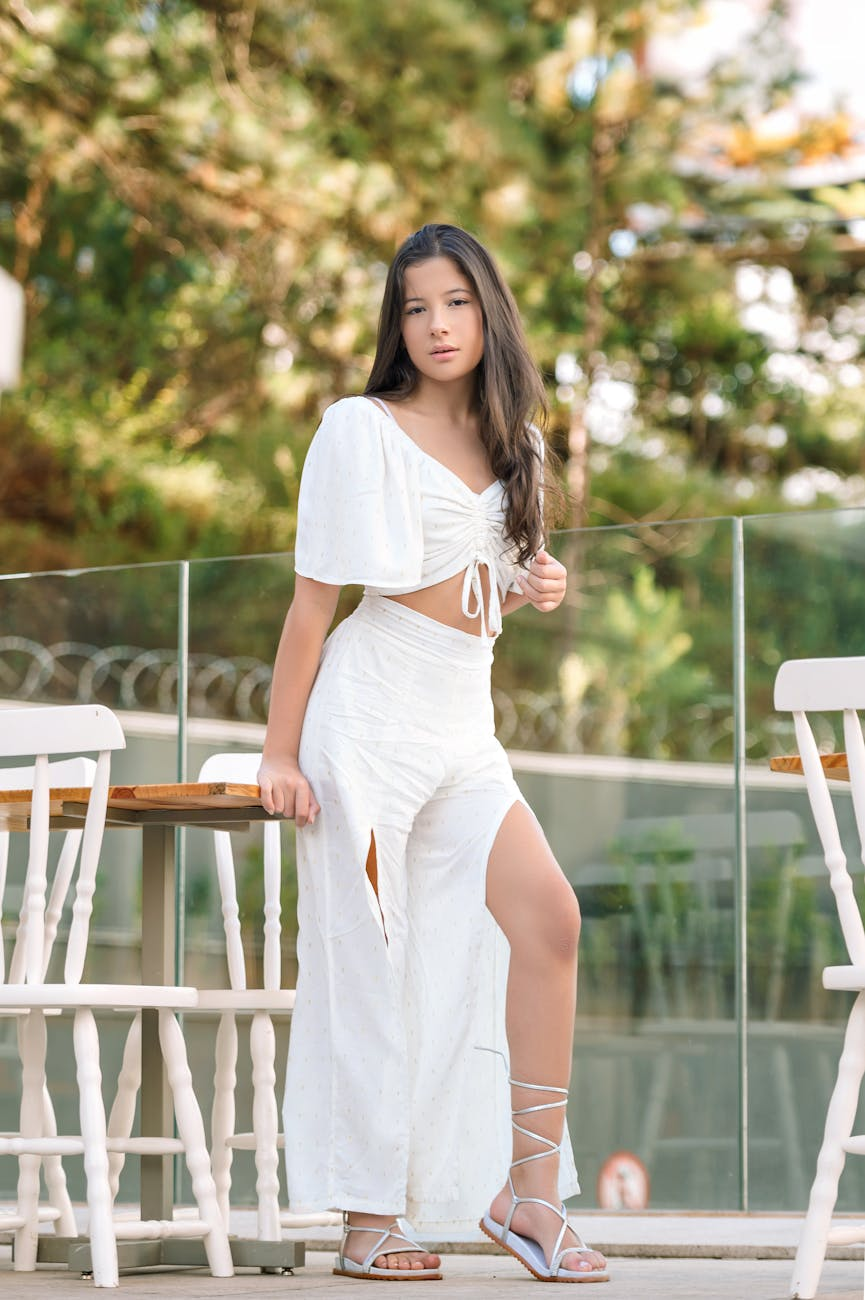crop_top: (279, 396, 551, 593)
opened_foot: (474, 1184, 607, 1285), (328, 1218, 445, 1286)
